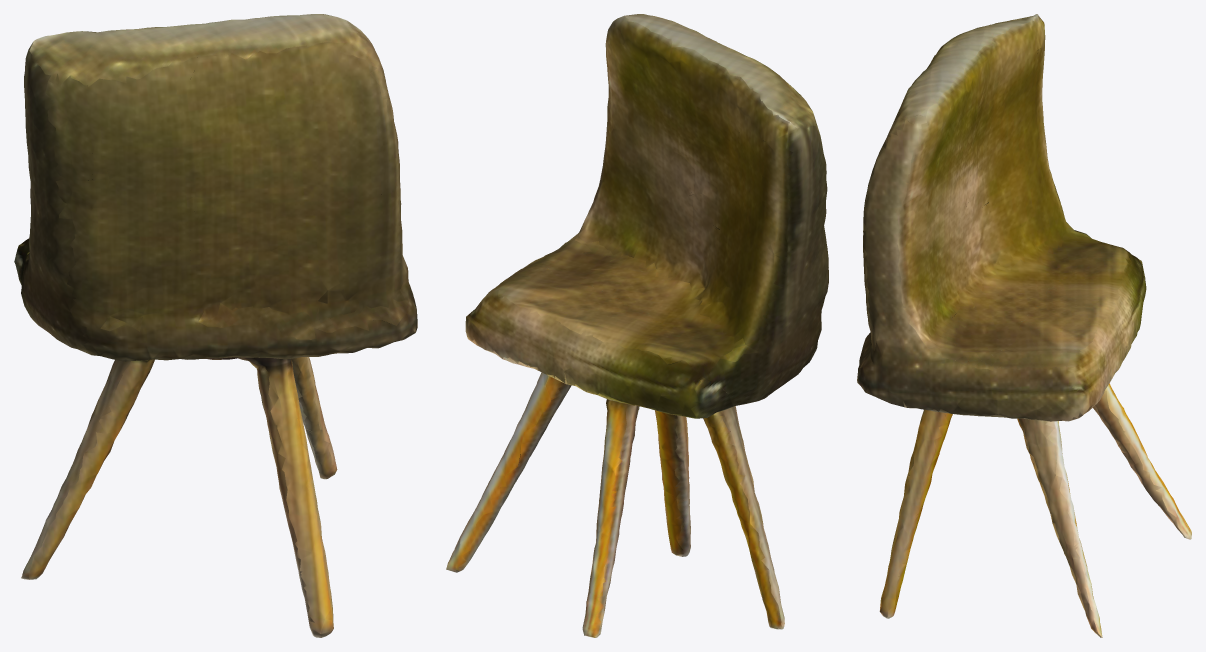
Rendered from chair-2048.glb.
The picture shows the model from 3 angles, left to right: view 1: azimuth 30°, elevation 25°; view 2: azimuth 150°, elevation 25°; view 3: azimuth 270°, elevation 25°; orthographic projection. The views are drawn at different scales.
Visible parts, largest first — view 1: world; view 2: world; view 3: world.
Part boxes in pixels (x1,y1,x2,y2): world: (14,14,417,637); world: (446,14,828,637); world: (857,14,1191,637).
Bounding box in the file's own units: 0.5886 × 0.9543 × 0.5474.
Materials: 1 (1 with a texture image).
